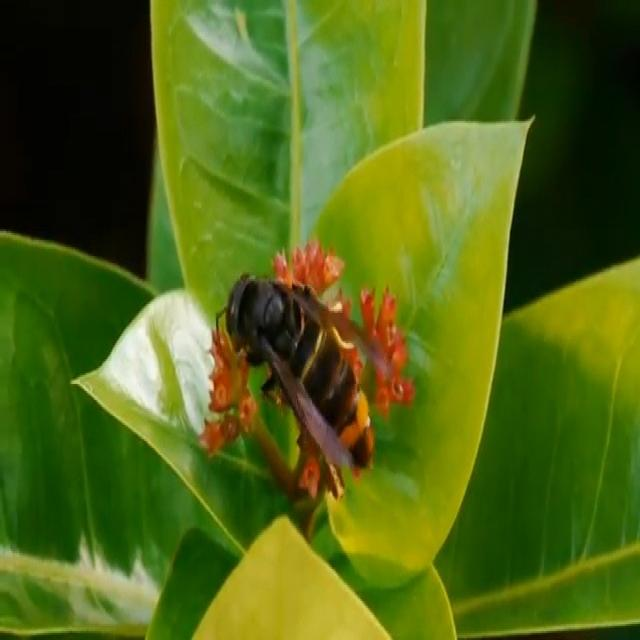Hornets: (214, 260, 389, 493)
